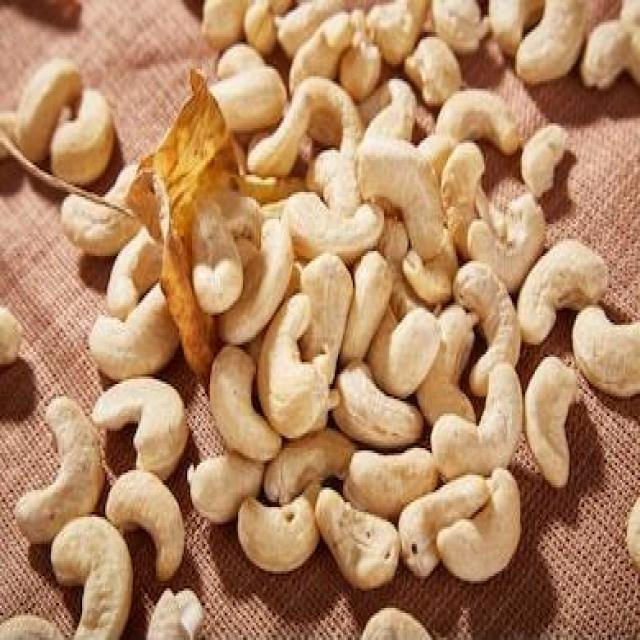cashew: (204, 337, 284, 465), (567, 297, 640, 436), (322, 492, 406, 606), (52, 510, 125, 640), (100, 474, 202, 560), (270, 294, 332, 432), (104, 296, 207, 374), (370, 132, 456, 222), (11, 43, 82, 145), (522, 365, 580, 487), (40, 398, 101, 507), (514, 0, 584, 94), (239, 484, 321, 564), (116, 380, 192, 465), (536, 252, 629, 320), (190, 430, 270, 508), (372, 304, 441, 393), (438, 409, 530, 475), (467, 197, 537, 281), (342, 254, 398, 354), (454, 505, 520, 587), (68, 85, 122, 178), (252, 120, 314, 197), (339, 376, 422, 432), (517, 112, 560, 210), (351, 447, 432, 497), (586, 12, 633, 98), (428, 87, 516, 132), (220, 77, 294, 120), (442, 148, 479, 202)
